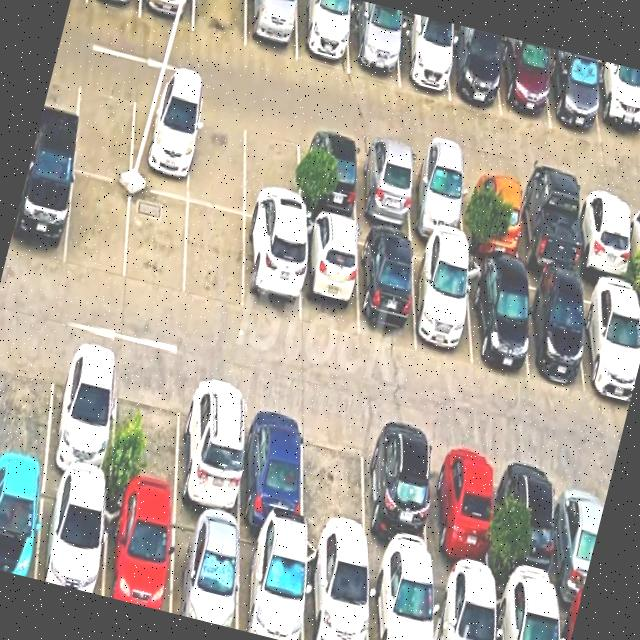empty: (110, 358, 182, 506), (303, 408, 366, 553), (0, 328, 56, 470), (65, 172, 131, 280), (73, 71, 135, 183), (125, 187, 188, 297), (184, 202, 244, 309), (244, 114, 299, 229), (188, 101, 244, 213), (192, 0, 246, 47)
occupied: (45, 340, 118, 488), (176, 375, 244, 522), (365, 422, 431, 569), (240, 391, 304, 534), (432, 436, 490, 584), (36, 474, 106, 595), (170, 508, 238, 629), (104, 492, 172, 612), (503, 452, 557, 598), (237, 525, 304, 640), (466, 259, 528, 379), (7, 155, 74, 266), (520, 271, 583, 387), (130, 86, 194, 200), (412, 243, 471, 365), (580, 280, 639, 401), (557, 466, 607, 602), (358, 230, 415, 347), (301, 217, 357, 336), (304, 540, 368, 640), (243, 218, 299, 324), (518, 179, 577, 278), (463, 166, 520, 262), (300, 128, 356, 224), (357, 140, 412, 235), (408, 152, 464, 245), (369, 559, 432, 640), (0, 465, 45, 578), (577, 191, 631, 284), (548, 50, 600, 142), (499, 39, 550, 128), (447, 30, 500, 115), (592, 64, 640, 154), (397, 17, 449, 100), (432, 571, 494, 640), (296, 0, 349, 74), (349, 6, 398, 85), (495, 585, 557, 640), (245, 0, 296, 61), (139, 0, 194, 31), (628, 202, 640, 285)
